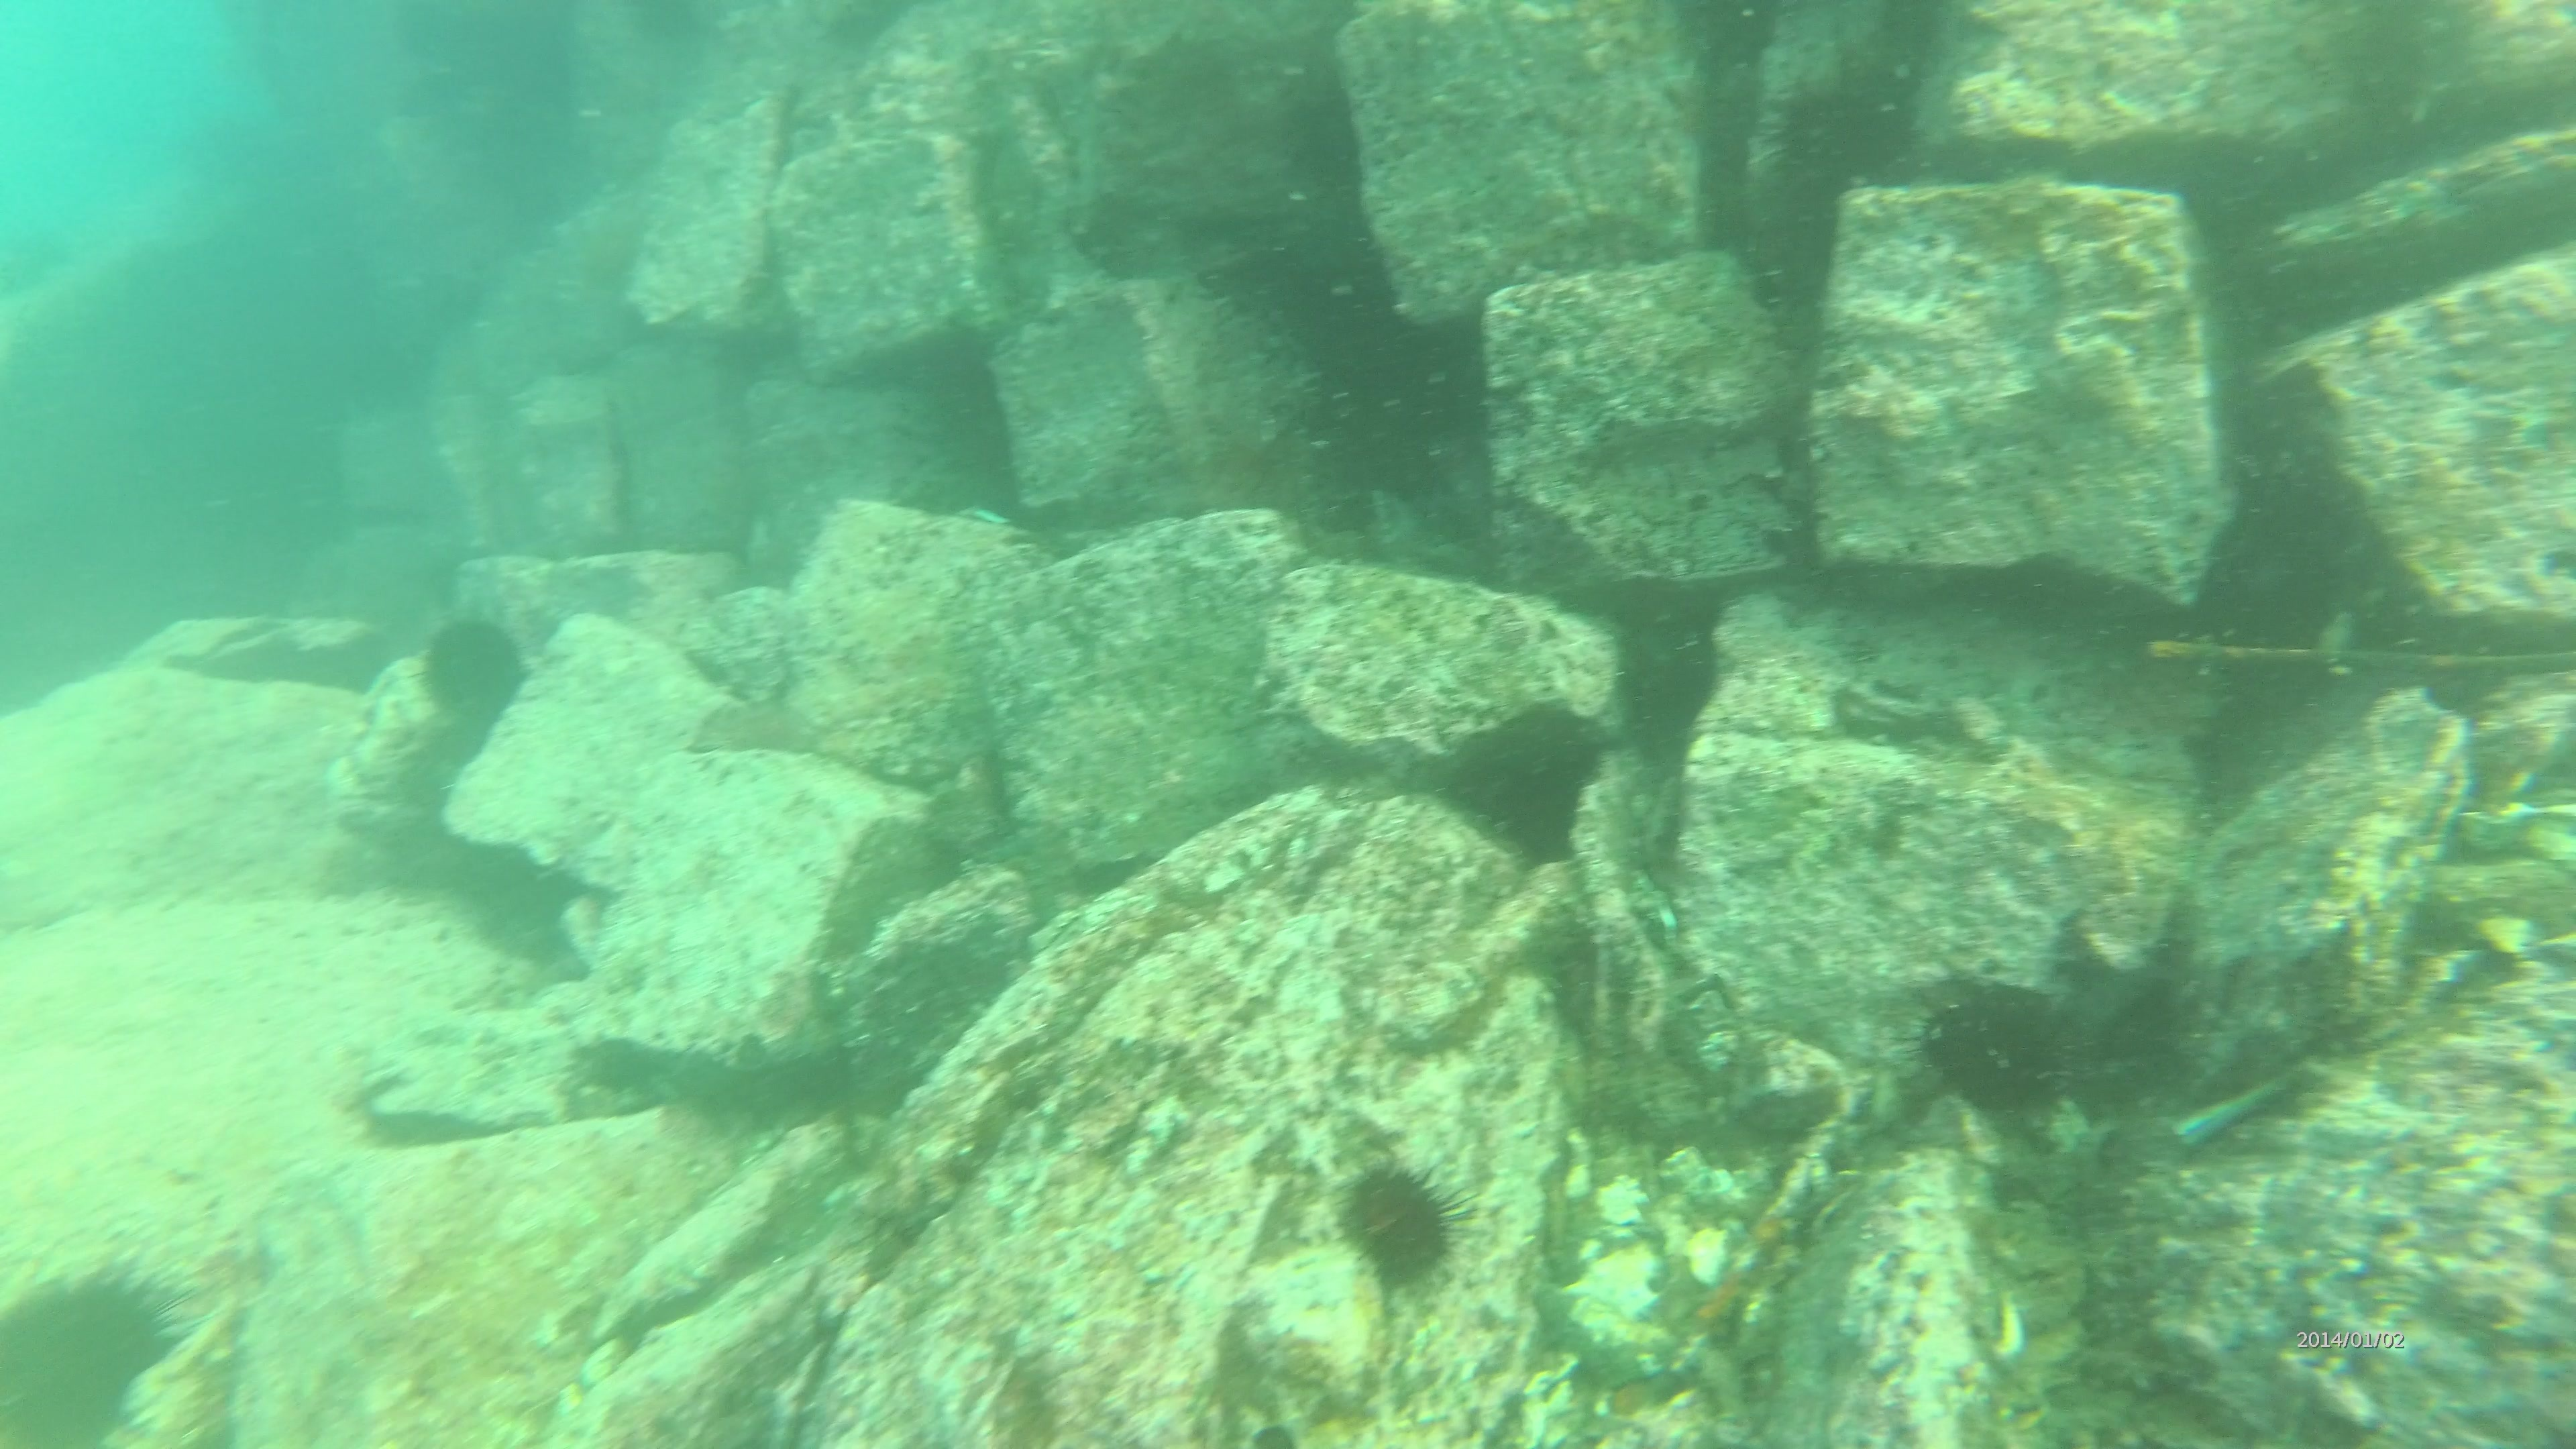echinus: (0, 1253, 188, 1447), (1911, 989, 2068, 1111), (1336, 1161, 1451, 1288), (416, 612, 531, 718)
